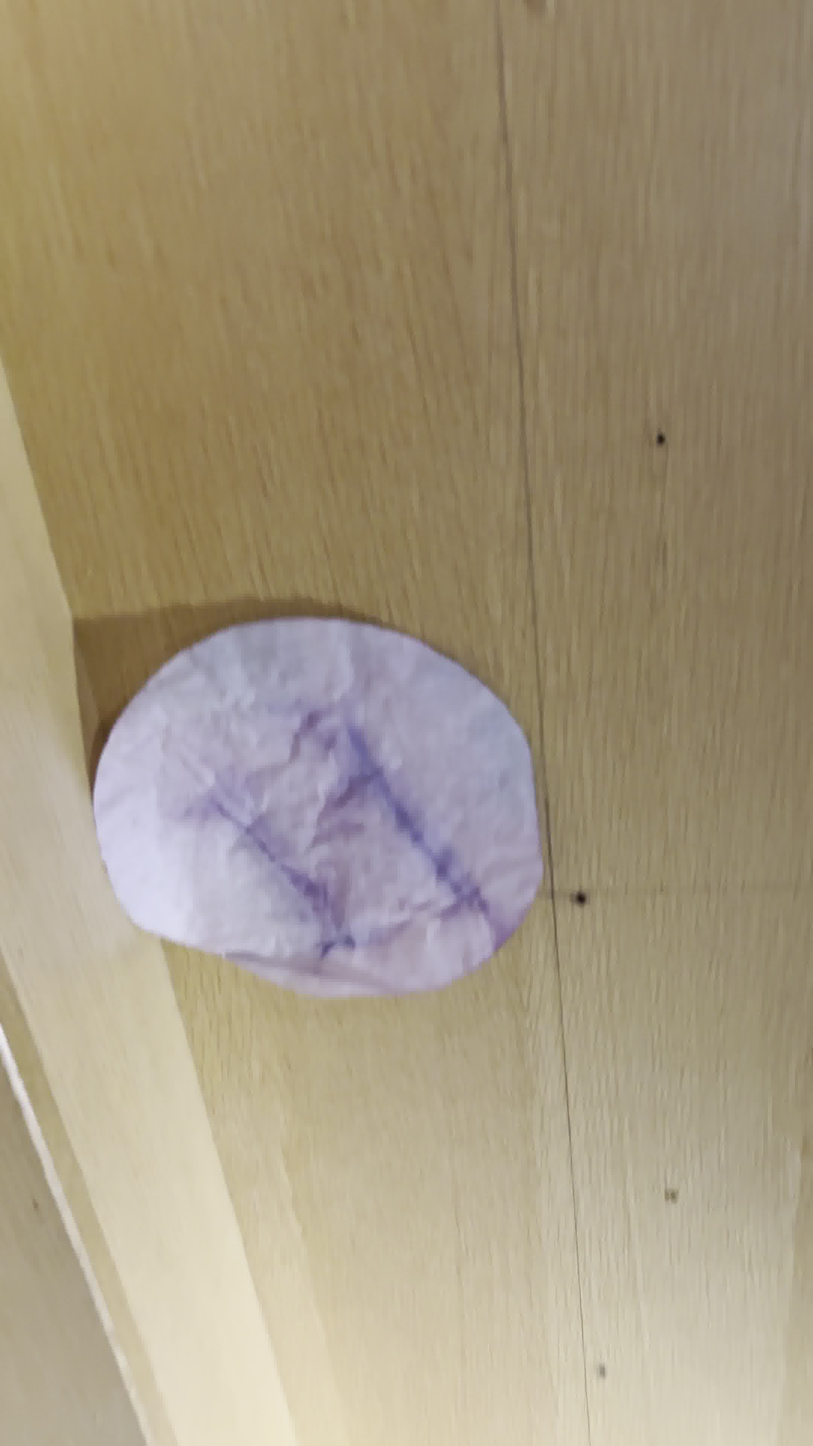Target: (94, 617, 545, 998)
